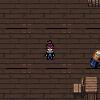Obstacle: (68, 74, 100, 100)
Victim: (42, 38, 57, 61)
Win: (86, 47, 100, 68)
